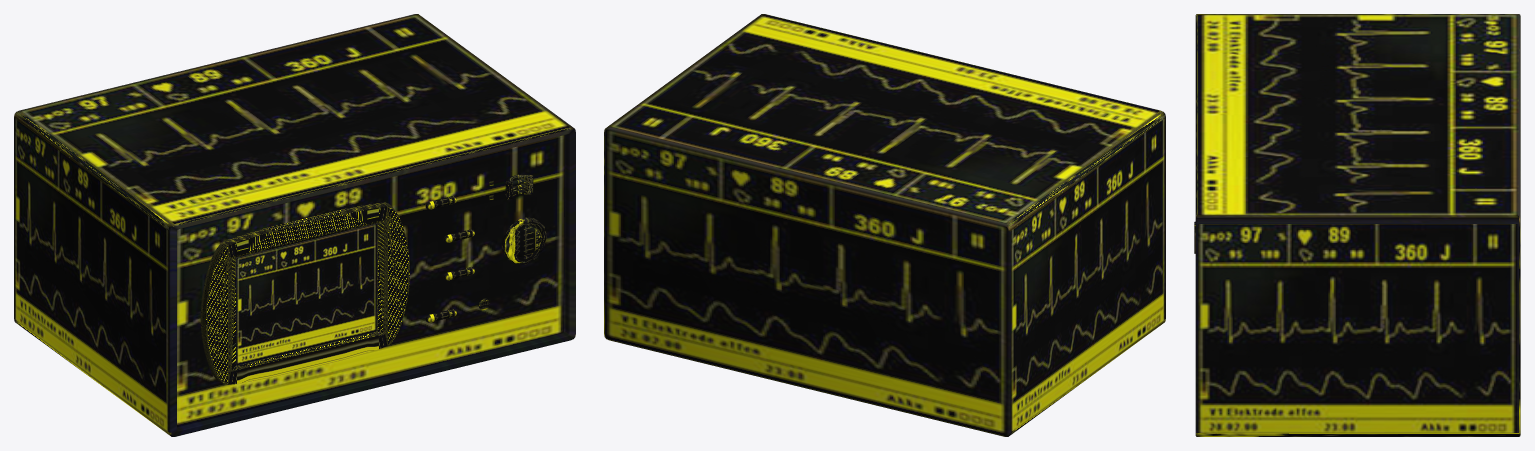
The model's file is Heart_Monitor.fbx.
3 views of the same model, side by side, from view 1: azimuth 30°, elevation 25°; view 2: azimuth 150°, elevation 25°; view 3: azimuth 270°, elevation 25° (orthographic). The views are drawn at different scales.
Visible parts, largest first — view 1: Monitor2; view 2: Monitor2; view 3: Monitor2.
Part boxes in pixels (<box>): Monitor2: <box>14,14,575,436</box>; Monitor2: <box>604,14,1165,436</box>; Monitor2: <box>1194,14,1520,436</box>.
Bounding box in the file's own units: 600 × 300 × 401.
Materials: 1 (1 with a texture image).
